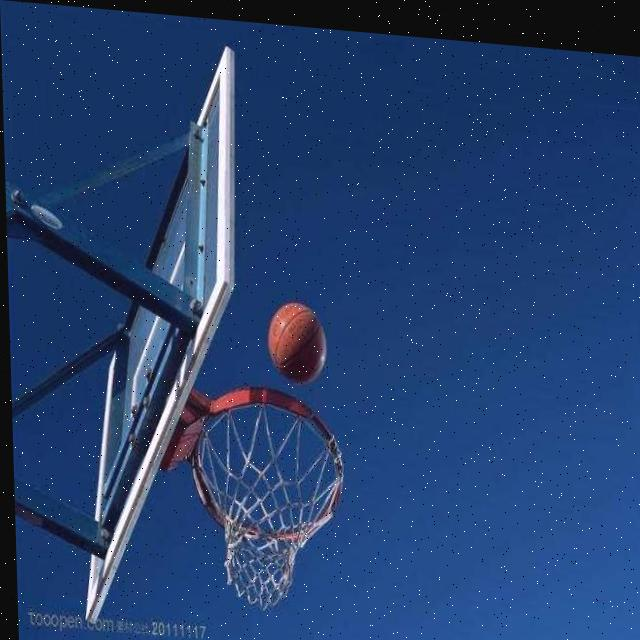Basketball: (268, 303, 326, 388)
